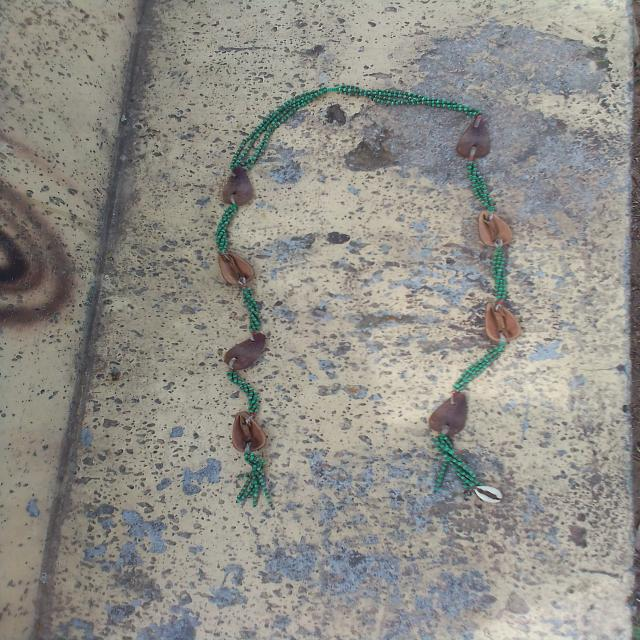facedown: (423, 386, 476, 442), (220, 328, 275, 374), (454, 110, 492, 163), (219, 168, 255, 209)
faceup: (482, 298, 522, 350), (212, 251, 258, 289), (476, 210, 518, 249), (229, 408, 265, 451)
